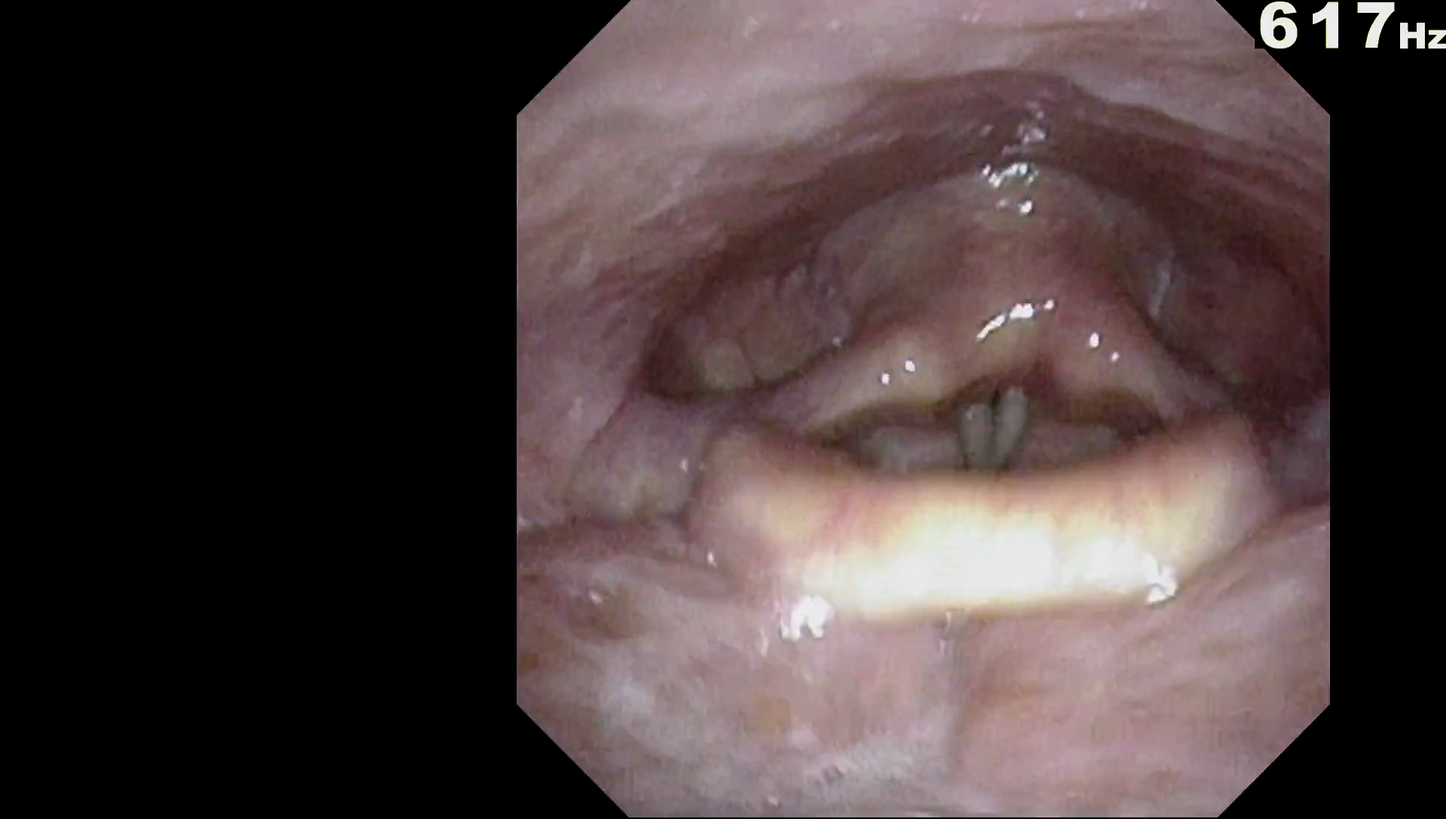trachea: (932, 372, 1049, 477)
